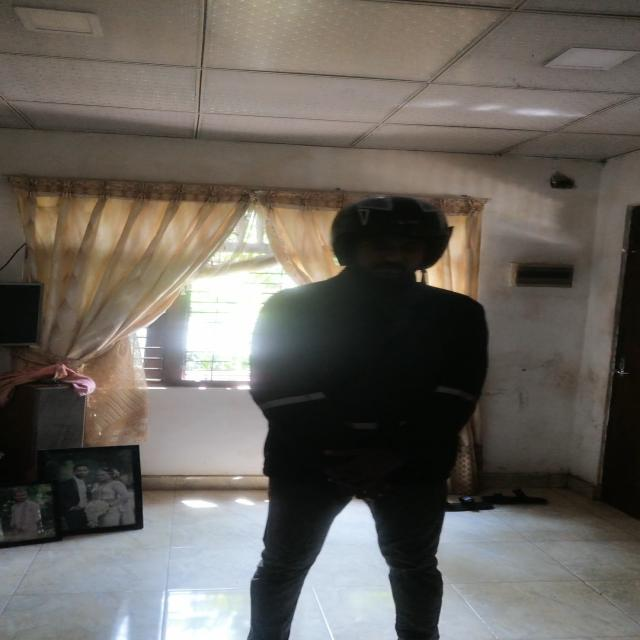Helmet_Wearer: (326, 202, 452, 286)
Jacket_Wearer: (248, 276, 484, 516)
Person: (248, 201, 490, 640)
